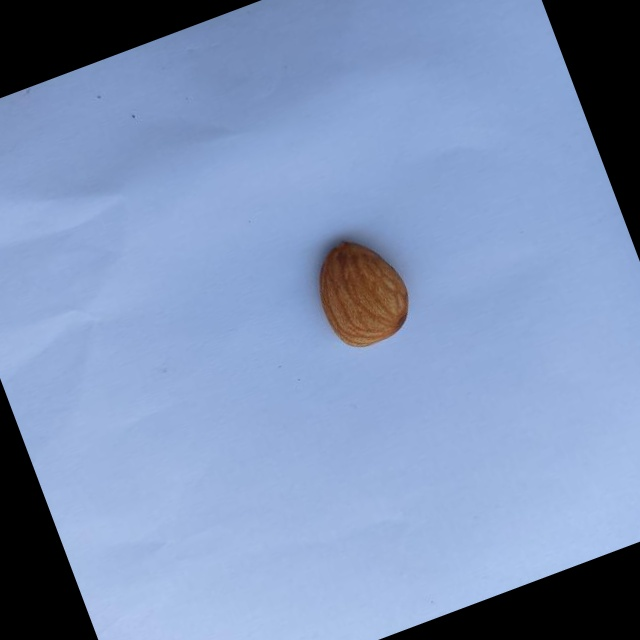grade1: (291, 217, 429, 366)
